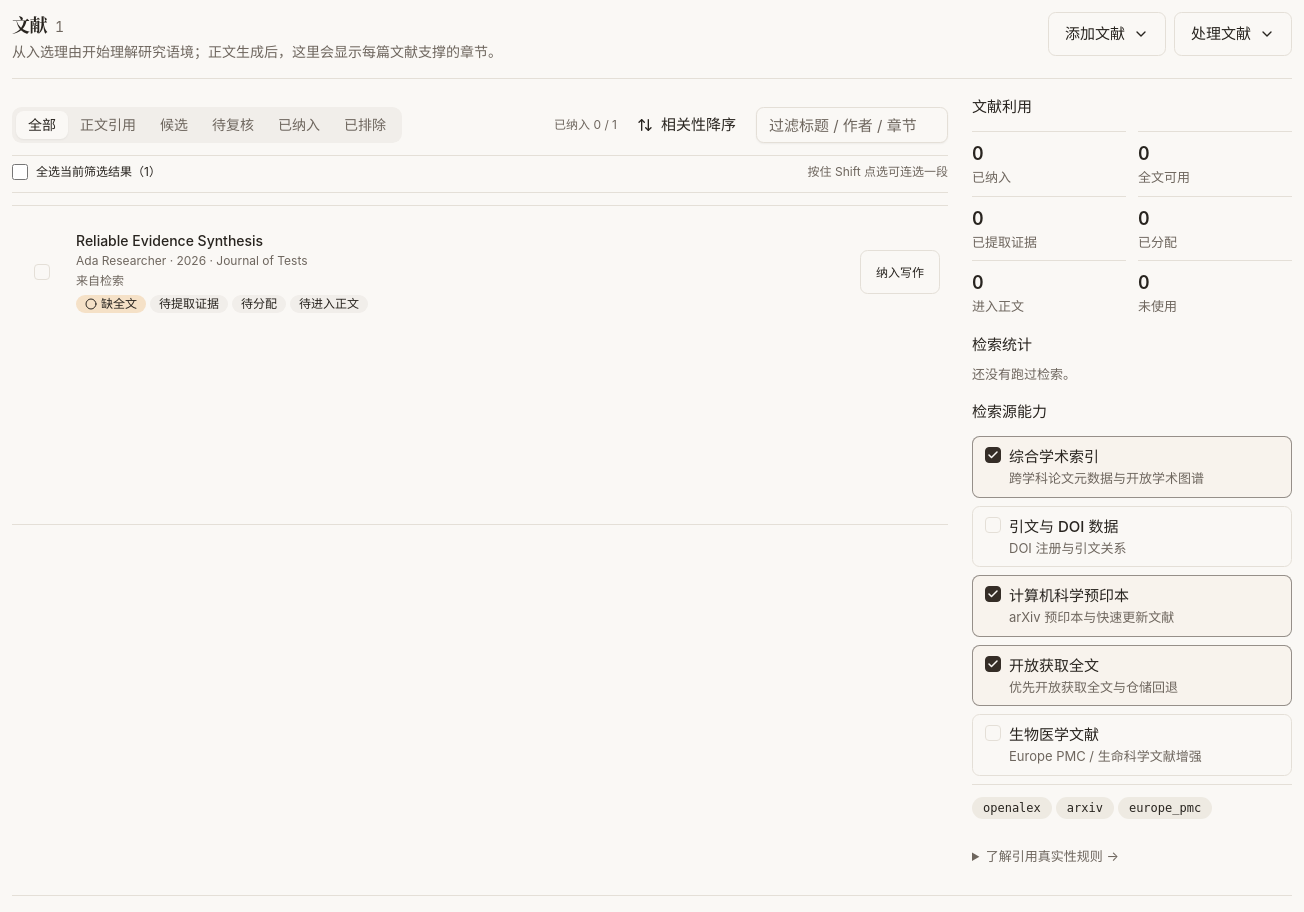
Test: 文献工作台 7.31 第一阶段 › 统一“添加文献”菜单包含 PDF、DOI、BibTeX 和搜索
This screenshot has width=1304, height=912.
Expected: the text "Reliable Evidence Synthesis" is shown, x1=76 y1=231 x2=263 y2=251
Click the button "添加文献" at (1107, 34), box x1=1048 y1=12 x2=1166 y2=56
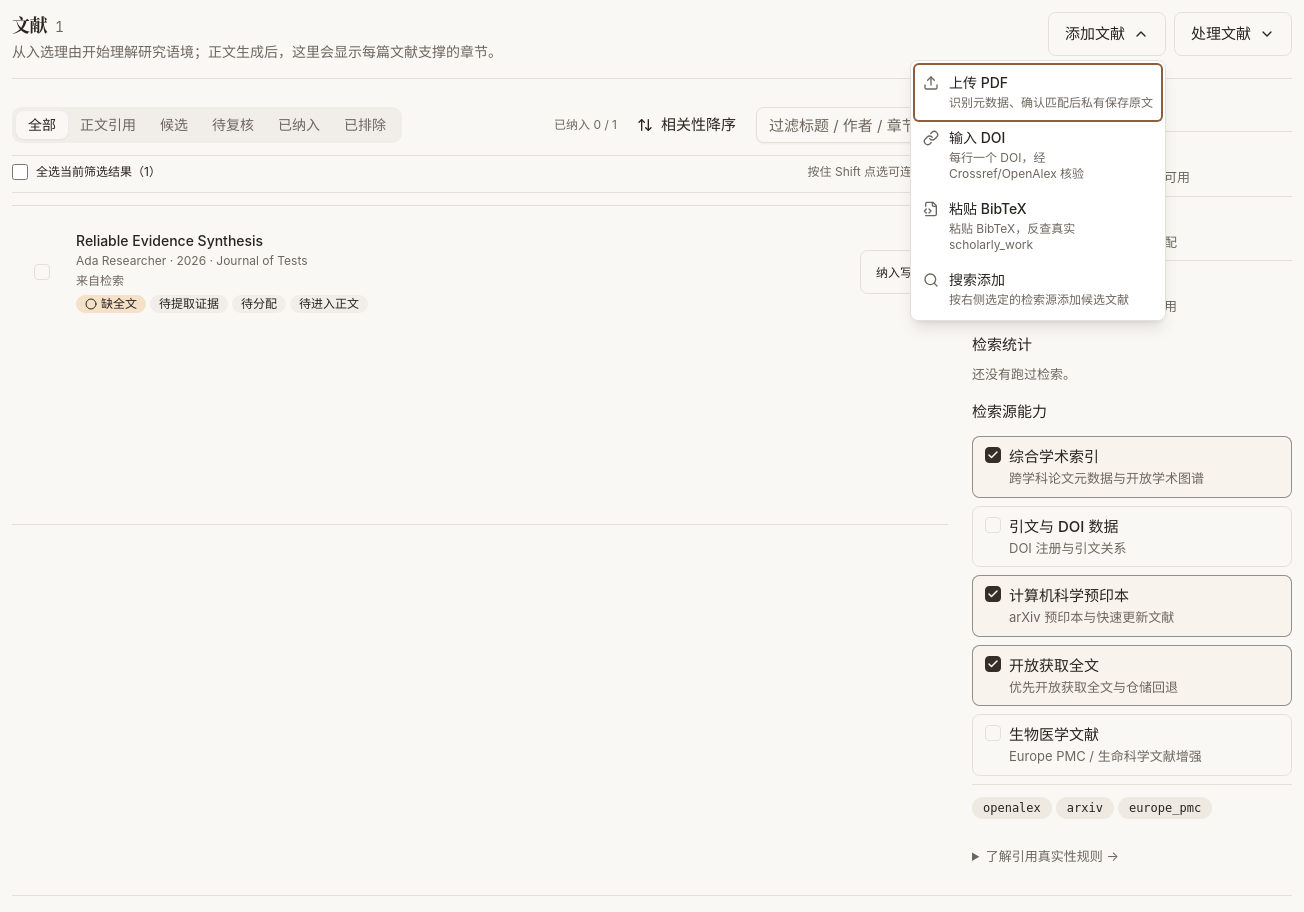
Now the menu item "上传 PDF 识别元数据、确认匹配后私有保存原文" is shown, box x1=915 y1=65 x2=1161 y2=120
Now the menu item "输入 DOI 每行一个 DOI，经 Crossref/OpenAlex 核验" is shown, box x1=915 y1=120 x2=1161 y2=190
Now the menu item "粘贴 BibTeX 粘贴 BibTeX，反查真实 scholarly_work" is shown, box x1=915 y1=190 x2=1161 y2=262
